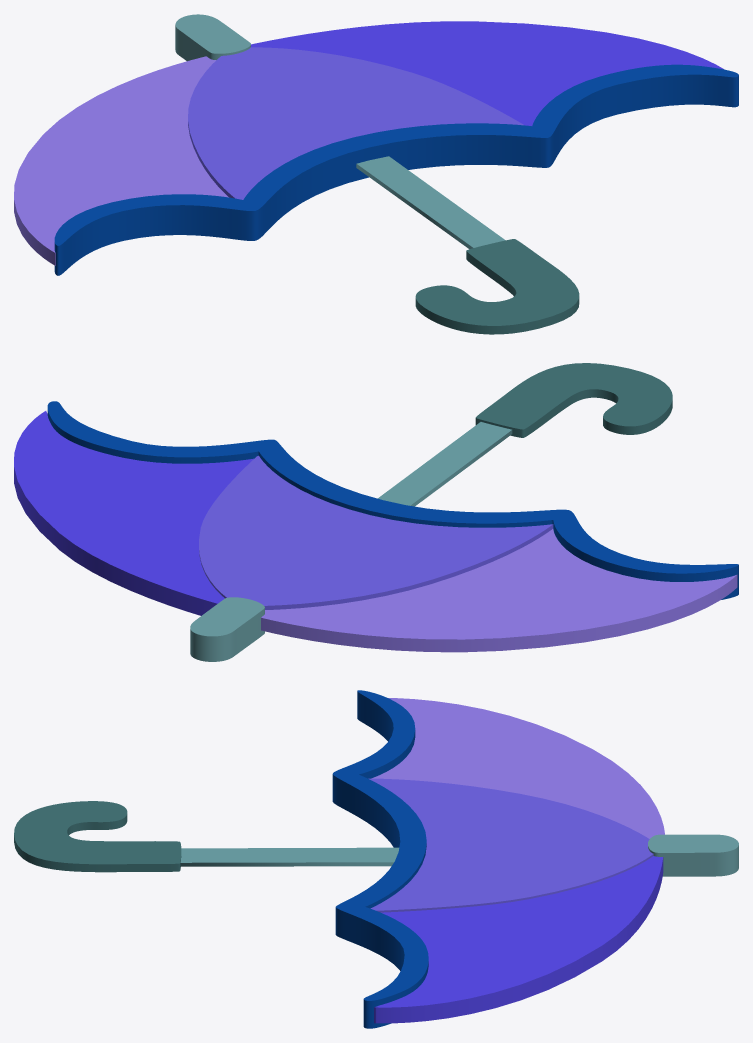
The model's file is emoji_u2602.glb.
The picture shows the model from 3 angles, top to bottom: view 1: azimuth 30°, elevation 25°; view 2: azimuth 150°, elevation 25°; view 3: azimuth 270°, elevation 25°; orthographic projection. The views are drawn at different scales.
Visible parts, largest first — view 1: emoji_u2602; view 2: emoji_u2602; view 3: emoji_u2602.
Boxes of the visible parts, box(x1,y1,x2,y2) form: emoji_u2602: box(14, 14, 738, 334); emoji_u2602: box(14, 363, 738, 661); emoji_u2602: box(14, 690, 738, 1028).
Bounding box in the file's own units: 0.0337 × 0.0014 × 0.0331.
